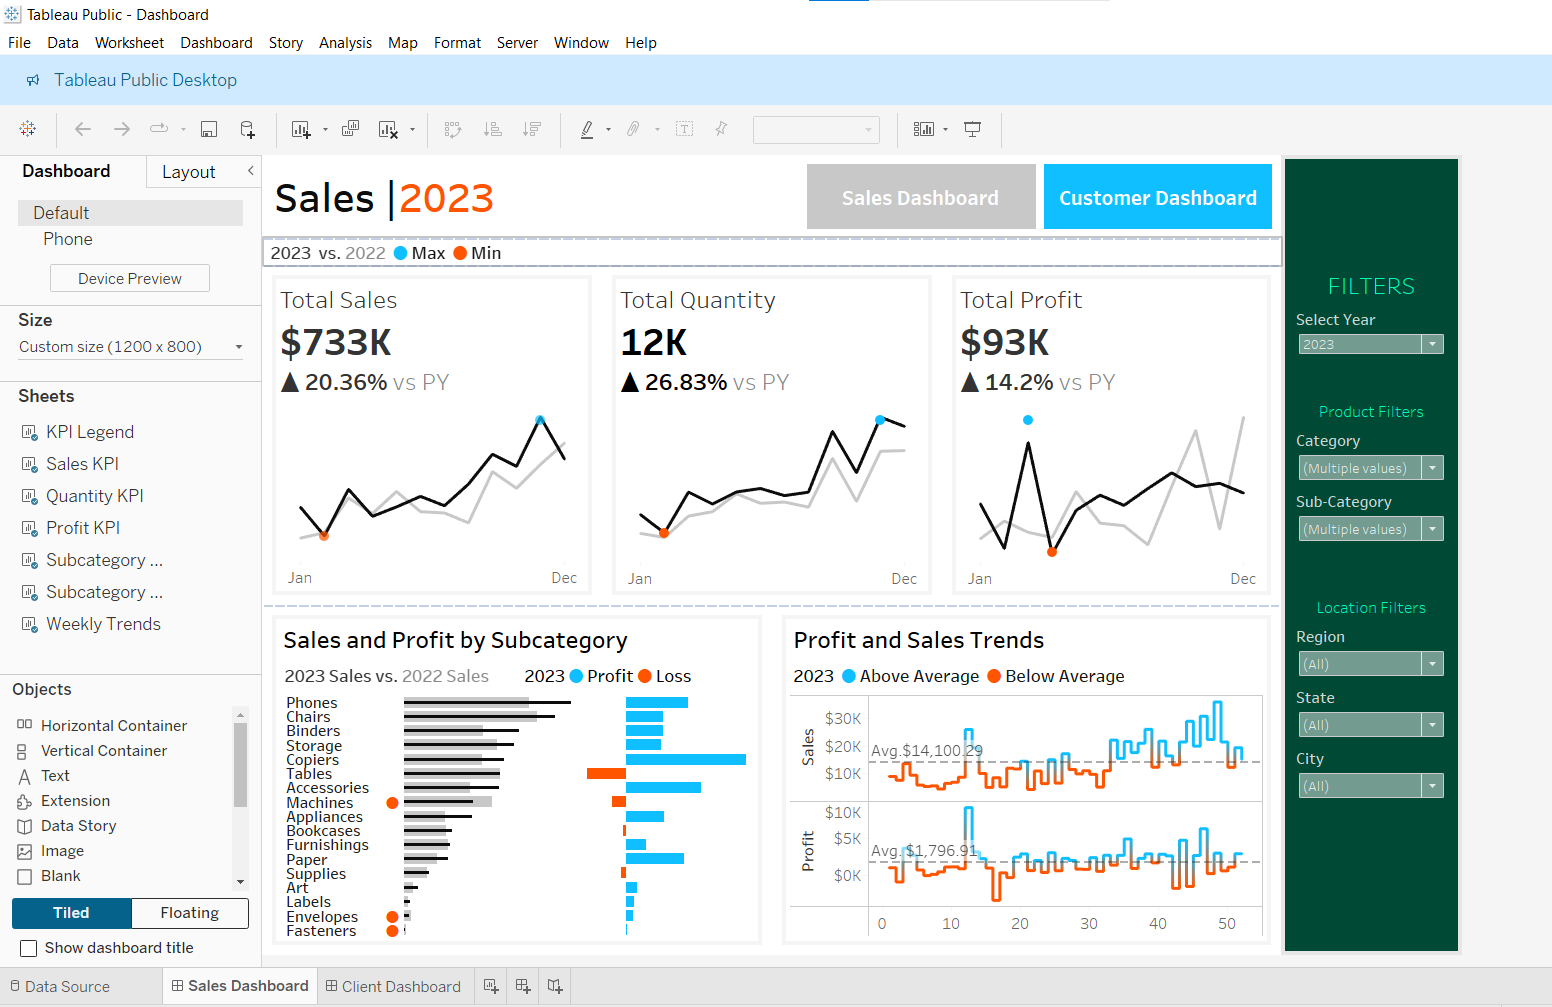

The dashboard page shown, as its layout file describes it:
{"tool":"tableau","page":{"name":"Sales Dashboard","canvas":[1200,800],"ordinal":1},"visuals":[{"type":"text","box":[5,5,536,73]},{"type":"dashboard-object","box":[541,5,237,73]},{"type":"dashboard-object","box":[778,5,236,73]},{"type":"blank","box":[1030,11,159,99]},{"type":"worksheet","title":"KPI Legend","mark":"Automatic","box":[0,83,1019,27]},{"type":"worksheet","title":"Sales KPI","mark":"Automatic","rows":["Calculation_796574231317962761"],"cols":["Order Date"],"box":[0,110,340,340]},{"type":"worksheet","title":"Quantity KPI","mark":"Line","rows":["Calculation_796574231326654480"],"cols":["Order Date"],"box":[340,110,340,340]},{"type":"worksheet","title":"Profit KPI","mark":"Automatic","rows":["Calculation_796574231334293529"],"cols":["Order Date"],"box":[680,110,339,340]},{"type":"text","box":[1030,110,159,40]},{"type":"parameter","param":"[Parameters].[Parameter 1]","box":[1030,150,159,56]},{"type":"blank","box":[1030,206,159,36]},{"type":"text","box":[1030,242,159,29]},{"type":"filter","title":"Sales KPI","param":"[federated.0tmau3h1o9sc4a1ee21wl1ntytuh].[none:Category:nk]","box":[1030,271,159,61]},{"type":"filter","title":"Sales KPI","param":"[federated.0tmau3h1o9sc4a1ee21wl1ntytuh].[none:Sub-Category:nk]","box":[1030,332,159,61]},{"type":"blank","box":[1030,393,159,45]},{"type":"text","box":[1030,438,159,29]},{"type":"text","box":[14,464,482,40]},{"type":"text","box":[524,464,481,40]},{"type":"filter","title":"Sales KPI","param":"[federated.0tmau3h1o9sc4a1ee21wl1ntytuh].[none:Region:nk]","box":[1030,467,159,61]},{"type":"worksheet","title":"Subcategory Legend","mark":"Automatic","box":[14,504,241,32]},{"type":"text","box":[255,504,241,32]},{"type":"text","box":[524,504,481,32]},{"type":"filter","title":"Sales KPI","param":"[federated.0tmau3h1o9sc4a1ee21wl1ntytuh].[none:State:nk]","box":[1030,528,159,61]},{"type":"worksheet","title":"Subcategory Comparison","mark":"Bar","rows":["Sub-Category","Calculation_796574231345762333"],"cols":["CY Sales (copy)_796574230973501441","Calculation_796574230973128704","Calculation_796574231333998615"],"box":[14,536,482,250]},{"type":"worksheet","title":"Weekly Trends","mark":"Automatic","rows":["Calculation_796574230973128704","Calculation_796574231333998615"],"cols":["Order Date"],"box":[524,536,481,250]},{"type":"filter","title":"Sales KPI","param":"[federated.0tmau3h1o9sc4a1ee21wl1ntytuh].[none:City:nk]","box":[1030,589,159,61]}]}

Visuals, with their boxes on the page's 1200x800 design canvas (x1, y1, x2, y2). These are canvas units, not pixel positions in the 1552x1007 screenshot, which may show the page scaled, cropped or inside an application window:
text: [5, 5, 541, 78]
dashboard-object: [541, 5, 778, 78]
dashboard-object: [778, 5, 1014, 78]
blank: [1030, 11, 1189, 110]
"KPI Legend" worksheet: [0, 83, 1019, 110]
"Sales KPI" worksheet: [0, 110, 340, 450]
"Quantity KPI" worksheet (Line marks): [340, 110, 680, 450]
"Profit KPI" worksheet: [680, 110, 1019, 450]
text: [1030, 110, 1189, 150]
parameter: [1030, 150, 1189, 206]
blank: [1030, 206, 1189, 242]
text: [1030, 242, 1189, 271]
"Sales KPI" filter: [1030, 271, 1189, 332]
"Sales KPI" filter: [1030, 332, 1189, 393]
blank: [1030, 393, 1189, 438]
text: [1030, 438, 1189, 467]
text: [14, 464, 496, 504]
text: [524, 464, 1005, 504]
"Sales KPI" filter: [1030, 467, 1189, 528]
"Subcategory Legend" worksheet: [14, 504, 255, 536]
text: [255, 504, 496, 536]
text: [524, 504, 1005, 536]
"Sales KPI" filter: [1030, 528, 1189, 589]
"Subcategory Comparison" worksheet (Bar marks): [14, 536, 496, 786]
"Weekly Trends" worksheet: [524, 536, 1005, 786]
"Sales KPI" filter: [1030, 589, 1189, 650]
